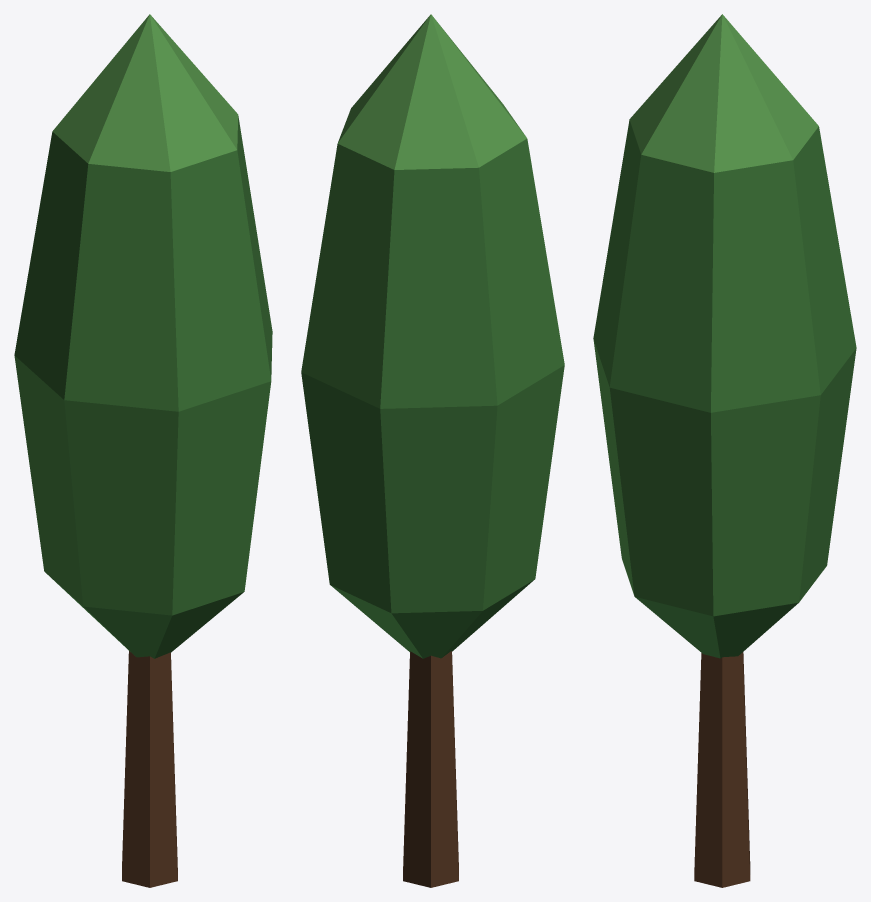
File: tree_tall_dark.glb
The picture shows the model from 3 angles, left to right: view 1: azimuth 30°, elevation 25°; view 2: azimuth 150°, elevation 25°; view 3: azimuth 270°, elevation 25°; orthographic projection.
Visible parts, largest first — view 1: tree_tall_dark; view 2: tree_tall_dark; view 3: tree_tall_dark.
Boxes of the visible parts, x1=… form: tree_tall_dark: x1=14, y1=14, x2=272, y2=887; tree_tall_dark: x1=301, y1=14, x2=564, y2=887; tree_tall_dark: x1=593, y1=14, x2=856, y2=887.
Bounding box in the file's own units: 0.4055 × 1.47 × 0.408.
Materials: 1 (1 with a texture image).
